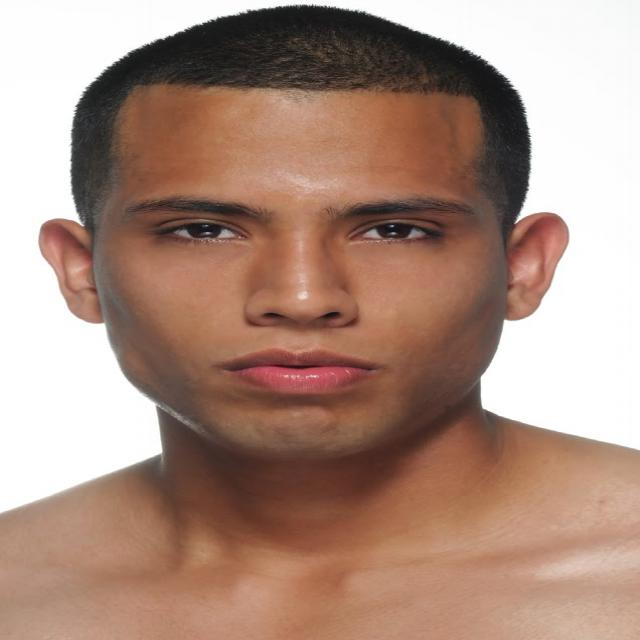earlobe: (72, 292, 105, 326), (505, 292, 540, 322)
eye: (353, 221, 432, 241), (162, 222, 245, 240)
nose: (247, 310, 361, 354)
wholeear: (504, 212, 569, 321), (39, 218, 104, 325)
